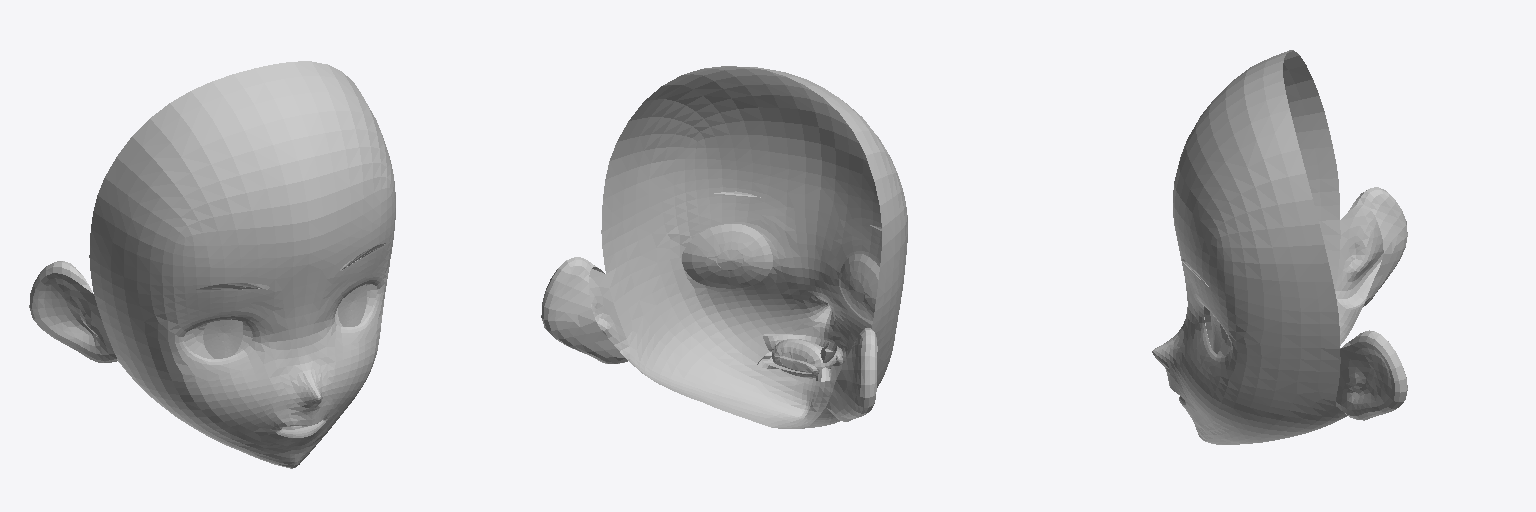
File: mouthUpperUpRight.obj
3 views of the same model, side by side, from view 1: azimuth 30°, elevation 25°; view 2: azimuth 150°, elevation 25°; view 3: azimuth 270°, elevation 25° (orthographic).
Parts seen in each view (by area): view 1: Face; view 2: Face; view 3: Face.
Boxes of the visible parts, <box> form: Face: <box>29,61,395,468</box>; Face: <box>541,66,907,428</box>; Face: <box>1152,50,1407,444</box>.
Size of the model in its own units: 0.2176 by 0.2333 by 0.1449.